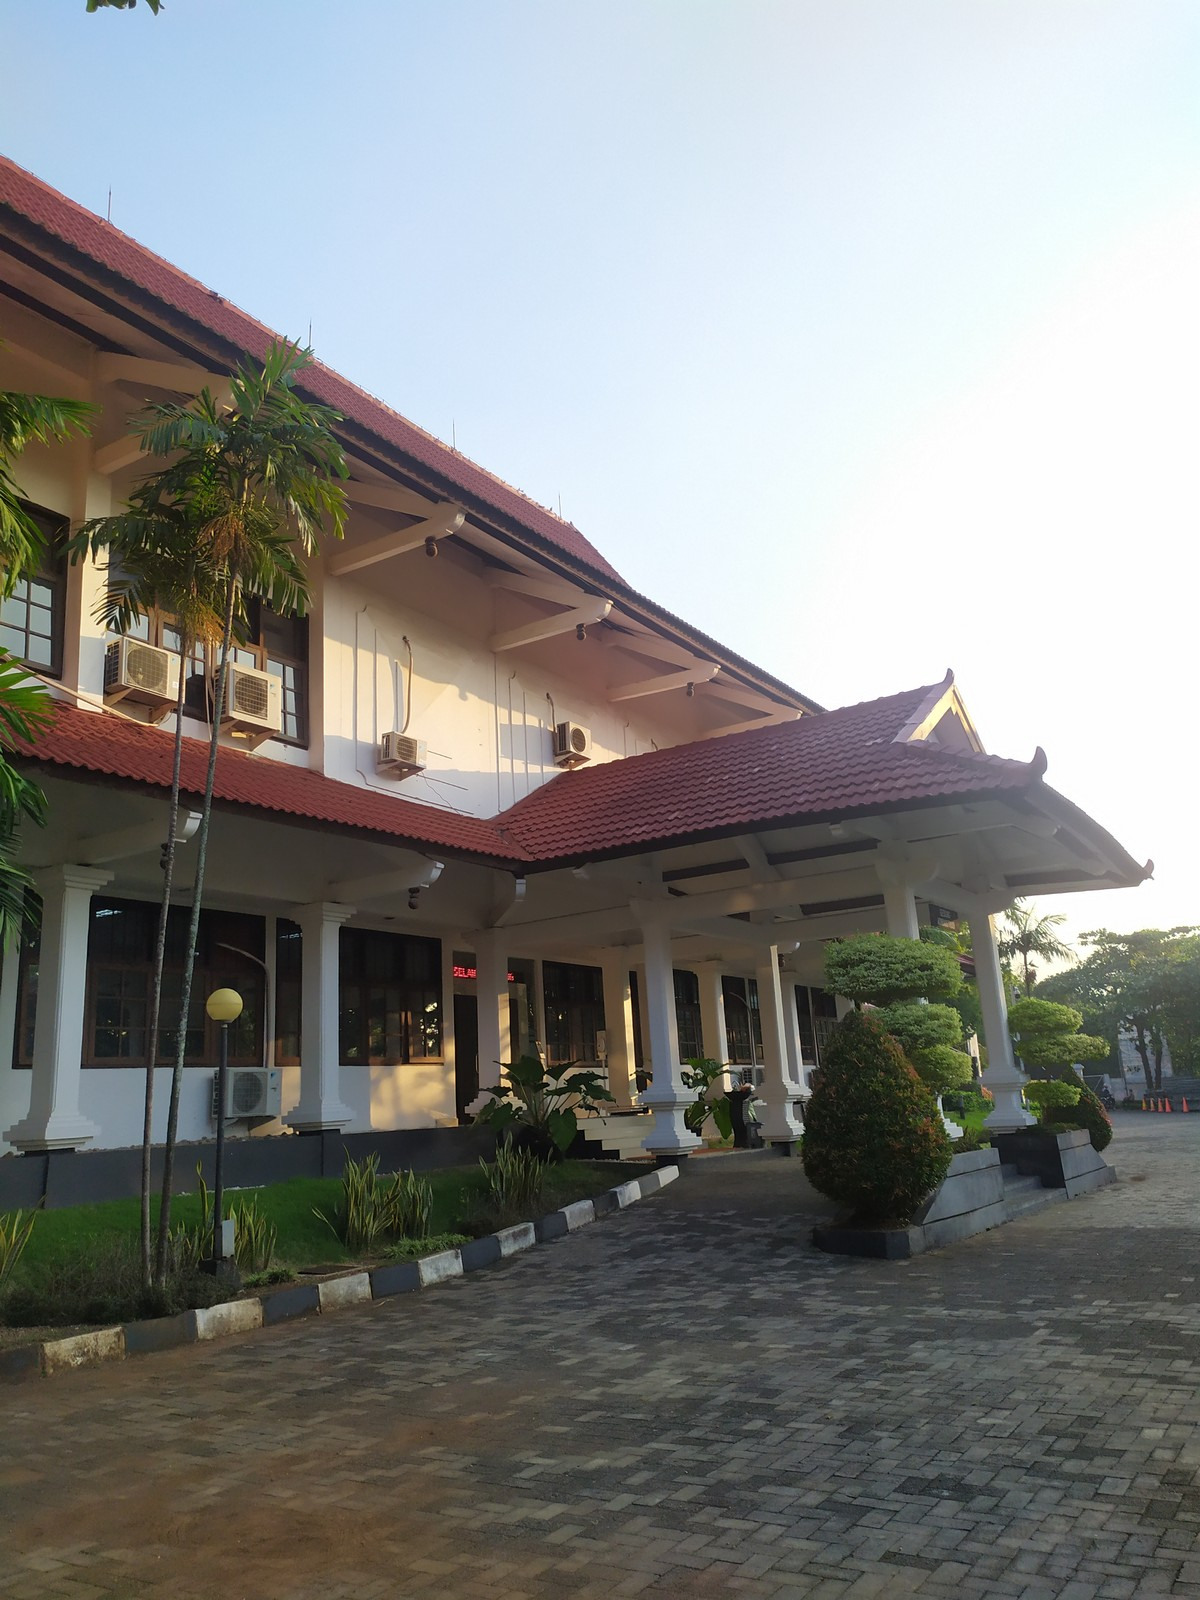concrete column: (61, 425, 124, 706), (30, 881, 98, 1129), (972, 901, 1025, 1104), (296, 913, 348, 1119), (639, 918, 687, 1094), (751, 944, 792, 1107)
